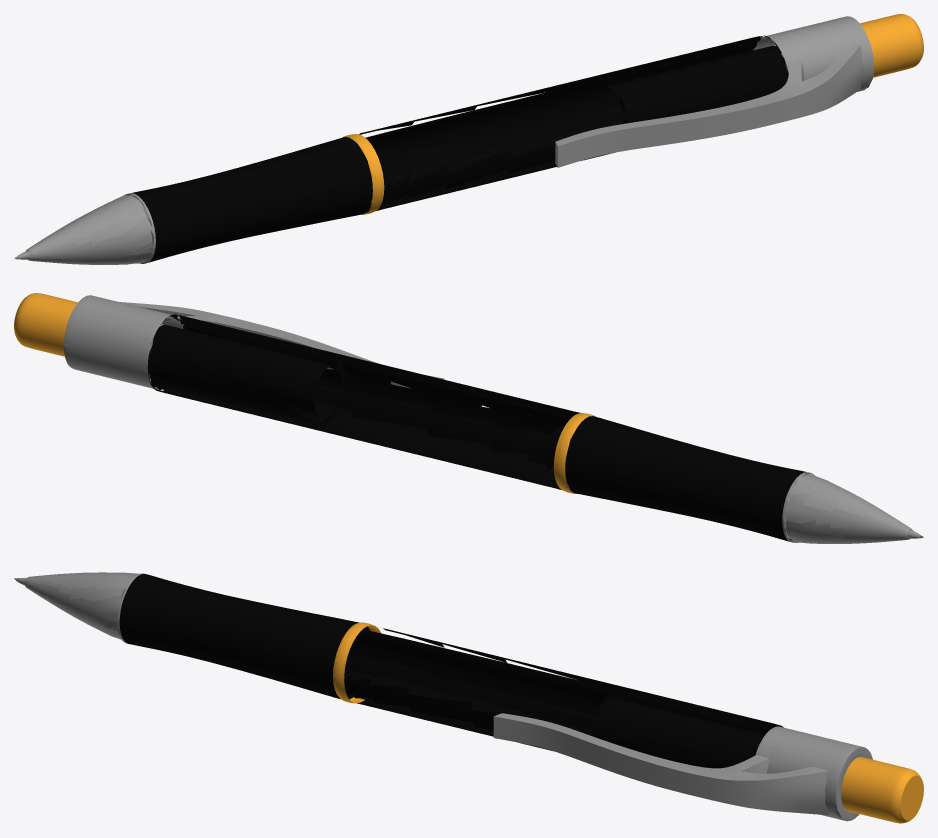
The model's file is pen.FBX.
3 views of the same model, one above another, from view 1: azimuth 30°, elevation 25°; view 2: azimuth 150°, elevation 25°; view 3: azimuth 330°, elevation 25° (orthographic).
Visible parts, largest first — view 1: Pen; view 2: Pen; view 3: Pen.
Boxes of the visible parts, left/top/right/bottom form: Pen: left=14, top=14, right=923, bottom=264; Pen: left=14, top=293, right=923, bottom=543; Pen: left=14, top=572, right=923, bottom=823.
Bounding box in the file's own units: 10.08 × 1.2 × 0.7951.
